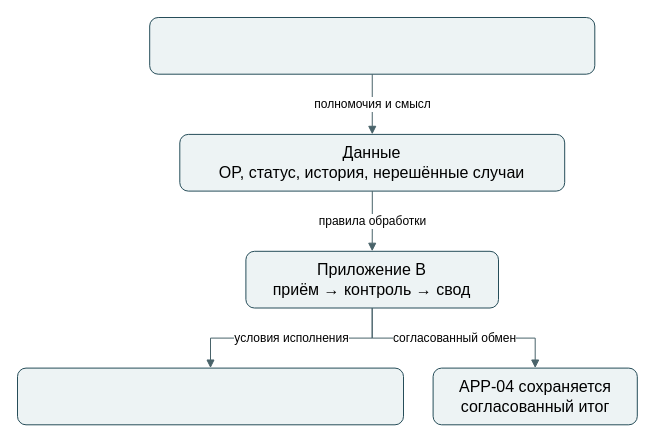
This 655x443 diagram has some shape labels left out. Each missing label, with the centre of its shape:
Бизнес Р01 создаёт; Р02 подтверждает; Р03 разбирает: point (372, 45)
Технологии локальная очередь / размещение / копия: point (210, 396)
